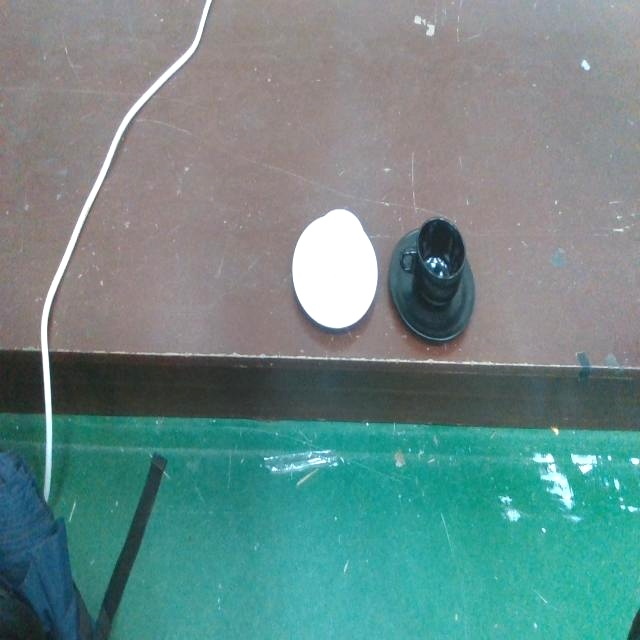black: (386, 214, 476, 346)
white: (291, 206, 380, 334)
